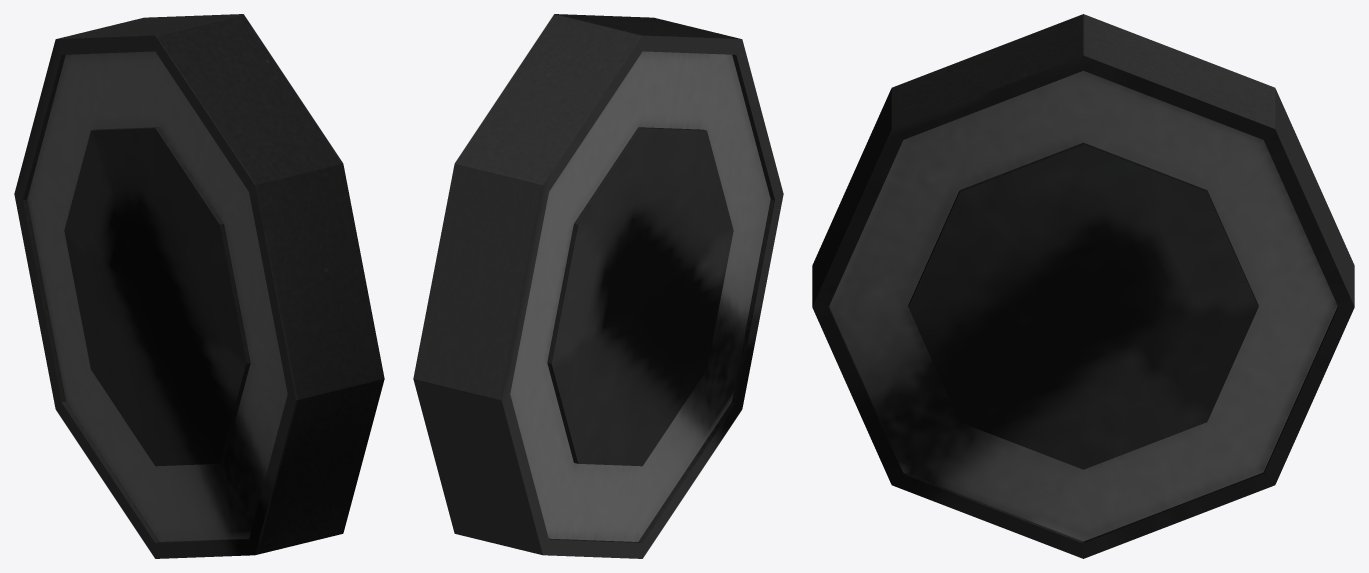
Rendered from WheelMain.obj.
3 views of the same model, side by side, from view 1: azimuth 30°, elevation 25°; view 2: azimuth 150°, elevation 25°; view 3: azimuth 270°, elevation 25° (orthographic). The views are drawn at different scales.
Parts seen in each view (by area): view 1: WheelLeftFront_Cube.005; view 2: WheelLeftFront_Cube.005; view 3: WheelLeftFront_Cube.005.
Boxes of the visible parts, x1=… form: WheelLeftFront_Cube.005: x1=14, y1=14, x2=384, y2=558; WheelLeftFront_Cube.005: x1=413, y1=14, x2=783, y2=558; WheelLeftFront_Cube.005: x1=812, y1=14, x2=1354, y2=558.
Size of the model in its own units: 0.0248 by 0.1257 by 0.1227.
1 material, 1 textured.
